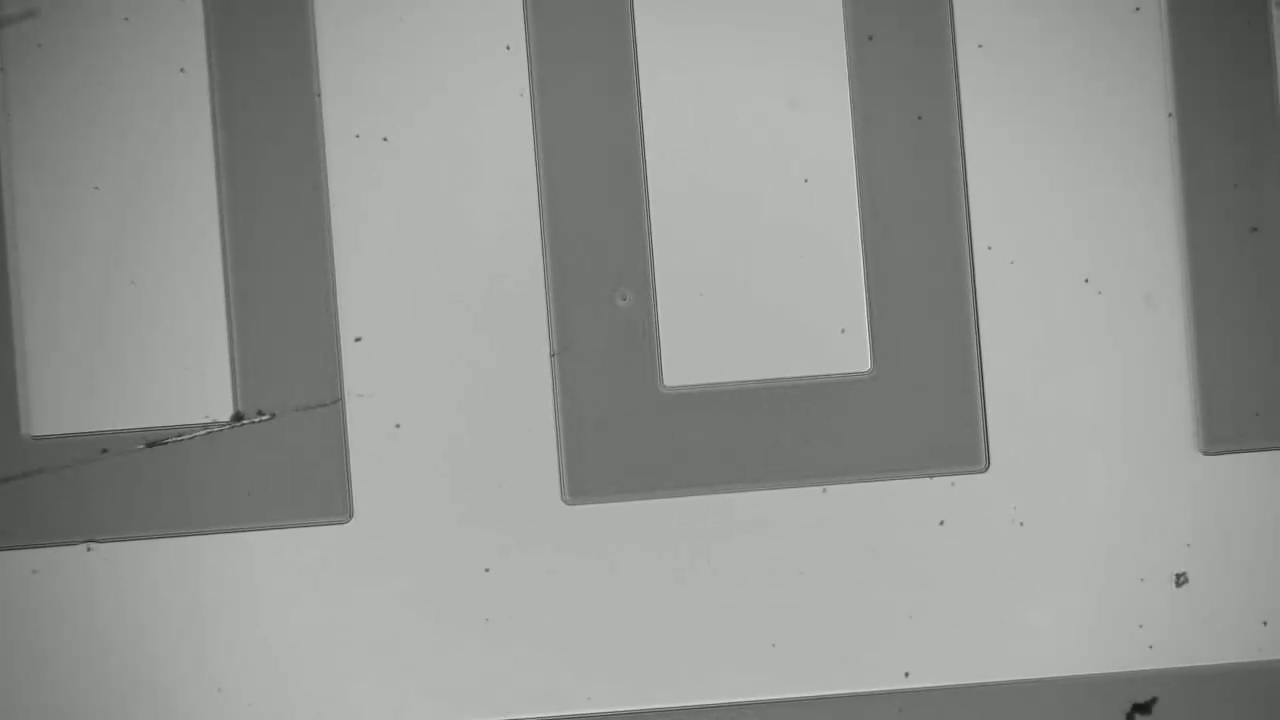scratch: (4, 395, 339, 481)
